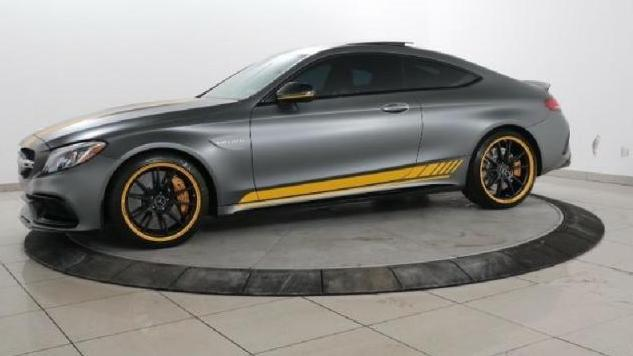C63AMG: (15, 31, 577, 248)
